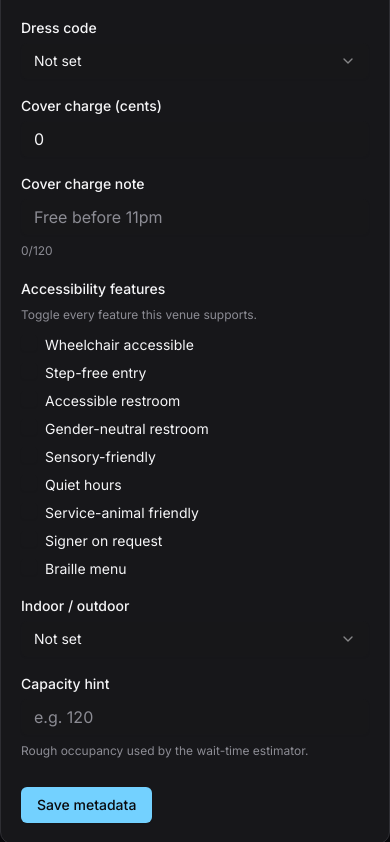
Test: VenueMetadataForm › surfaces server errors as an inline alert
(page scrolled)
Click the button "Save metadata": (87, 805) [21,787,152,823]
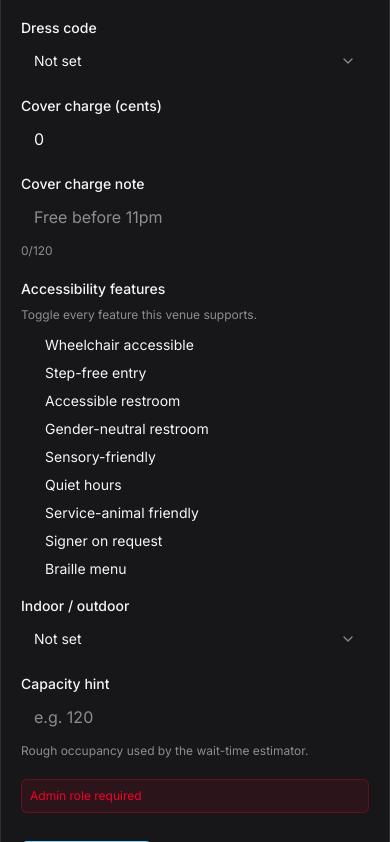
expect the text "Admin role required" is shown: met, box [21,779,369,813]
